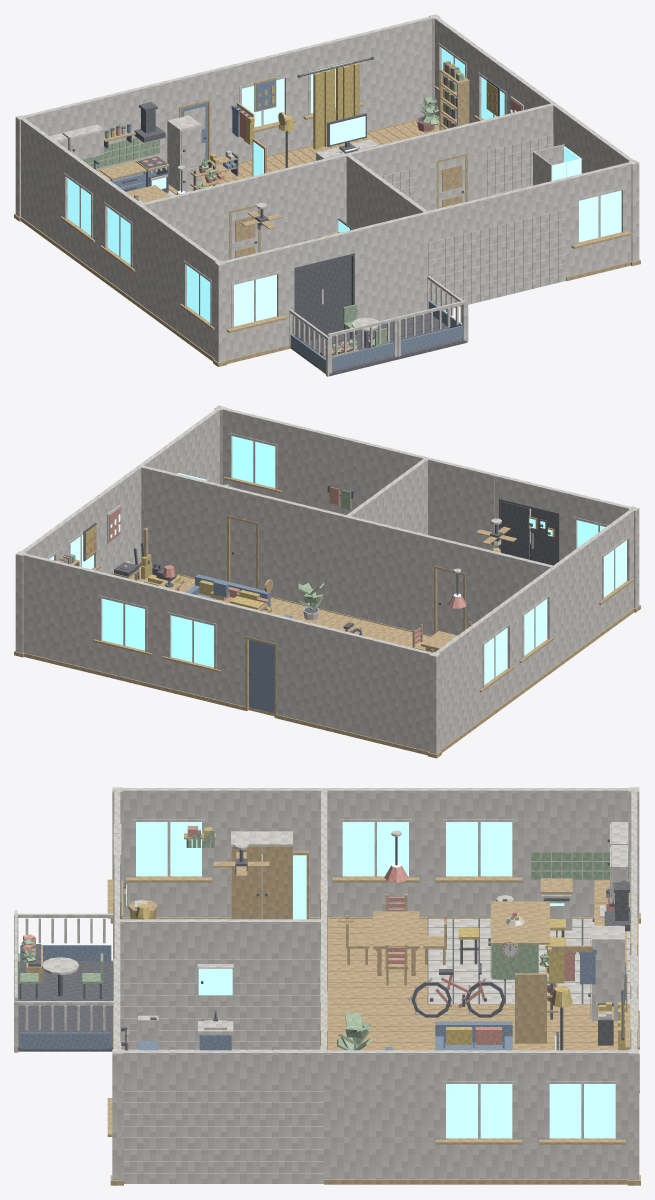
Rendered from pixel-flat-home.glb.
3 views of the same model, one above another, from view 1: azimuth 30°, elevation 25°; view 2: azimuth 150°, elevation 25°; view 3: azimuth 270°, elevation 25° (orthographic). The views are drawn at different scales.
Visible parts, largest first — view 1: 040-bathroom-wall-bay0, 038-wall-bay-plain0, 039-bathroom-wall-bay0, 035-wall-bay-plain0, 058-wall-bay-plain0, 041-wall-bay-window0, 061-bathroom-wall-bay0, 036-wall-bay-window0, 045-wall-bay-plain0, 033-wall-bay-window0, 060-interior-door-bay0, 042-kitchen-wall-bay0 (+55 smaller); view 2: 031-kitchen-wall-bay0, 058-wall-bay-plain0, 059-bathroom-wall-bay0, 035-wall-bay-plain0, 030-kitchen-wall-bay0, 061-bathroom-wall-bay0, 033-wall-bay-window0, 034-wall-bay-window0, 038-wall-bay-plain0, 040-bathroom-wall-bay0, 032-wall-bay-door0, 060-interior-door-bay0 (+40 smaller); view 3: 050-bathroom-wall-bay0, 049-wall-bay-plain0, 051-bathroom-wall-bay0, 062-bathroom-wall-bay0, 063-bathroom-wall-bay0, 048-wall-bay-window0, 047-wall-bay-window0, 043-wall-bay-window0, 044-wall-bay-window0, 046-wall-bay-window0, 042-kitchen-wall-bay0, 045-wall-bay-plain0 (+47 smaller).
Boxes of the visible parts, x1,y1,x2,y2 form: 040-bathroom-wall-bay0: (495,178,565,297); 038-wall-bay-plain0: (357,212,428,321); 039-bathroom-wall-bay0: (426,195,497,310); 035-wall-bay-plain0: (365,15,435,131); 058-wall-bay-plain0: (278,153,348,247); 041-wall-bay-window0: (564,162,633,277); 061-bathroom-wall-bay0: (484,103,554,196); 036-wall-bay-window0: (220,245,290,360); 045-wall-bay-plain0: (138,204,181,331); 033-wall-bay-window0: (227,49,297,162); 060-interior-door-bay0: (415,120,486,210); 042-kitchen-wall-bay0: (21,118,62,243); 031-kitchen-wall-bay0: (295,620,366,735); 058-wall-bay-plain0: (346,516,417,630); 059-bathroom-wall-bay0: (277,499,346,614); 035-wall-bay-plain0: (20,552,90,668); 030-kitchen-wall-bay0: (364,637,435,751); 061-bathroom-wall-bay0: (140,465,209,577); 033-wall-bay-window0: (157,586,228,701); 034-wall-bay-window0: (89,569,159,685); 038-wall-bay-plain0: (426,457,496,550); 040-bathroom-wall-bay0: (288,423,358,514); 032-wall-bay-door0: (226,603,297,718); 060-interior-door-bay0: (208,482,279,597); 050-bathroom-wall-bay0: (220,1050,323,1183); 049-wall-bay-plain0: (324,1050,427,1179); 051-bathroom-wall-bay0: (117,1050,220,1183); 062-bathroom-wall-bay0: (220,919,320,1050); 063-bathroom-wall-bay0: (120,919,220,1050); 048-wall-bay-window0: (427,1050,530,1179); 047-wall-bay-window0: (531,1050,634,1179); 043-wall-bay-window0: (427,788,530,917); 044-wall-bay-window0: (324,788,427,917); 046-wall-bay-window0: (117,788,220,917); 042-kitchen-wall-bay0: (531,788,633,917); 045-wall-bay-plain0: (220,788,323,917).
Size of the model in its own units: 12.32 by 2.83 by 12.13.
Materials: 8 (8 with a texture image).
